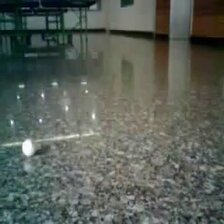w: (23, 139, 35, 156)
